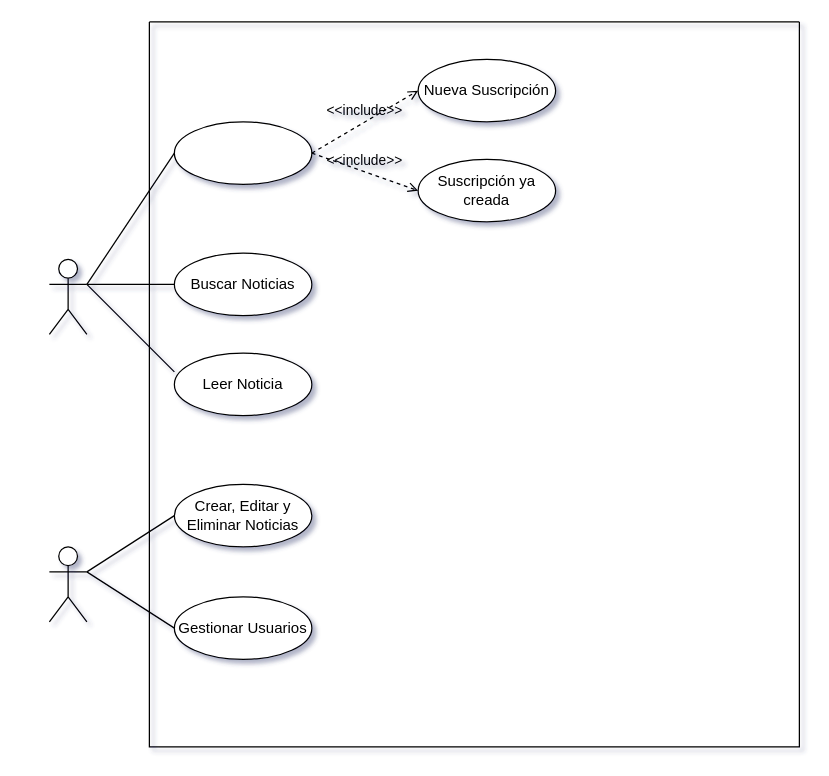
This 829x776 diagram has some shape labels left out. The shapes that lost their labels are listed below. From the top down, each one's centre as x and y in pixels, then its label:
point 242,152: Iniciar sesión
point 67,296: Usuario
point 67,584: Administrador
